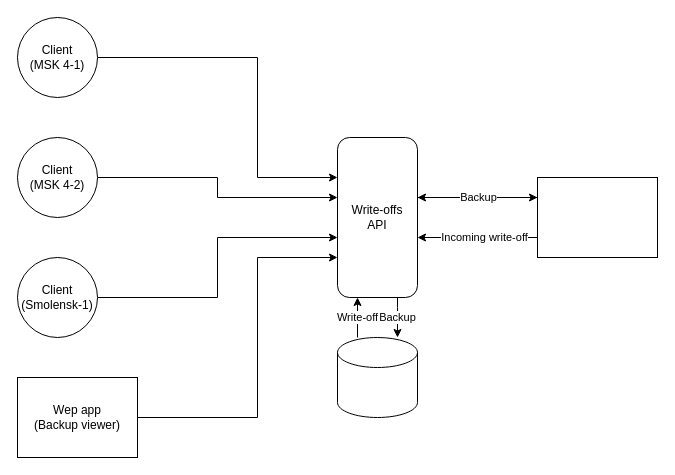
The diagram is 675 pixels wide and 475 high, and some of its shapes have lost their labels. The shapes that lost their labels are listed below. From the top down, each one's box as (x1, y1, x2, y2) in pixels, then its label:
(536, 176, 658, 258): Google sheets
(336, 336, 418, 418): DB
